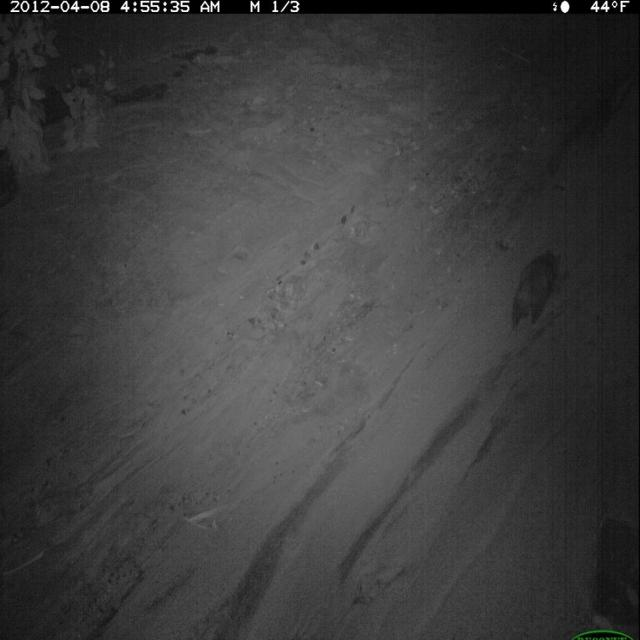opossum: (507, 245, 565, 343)
